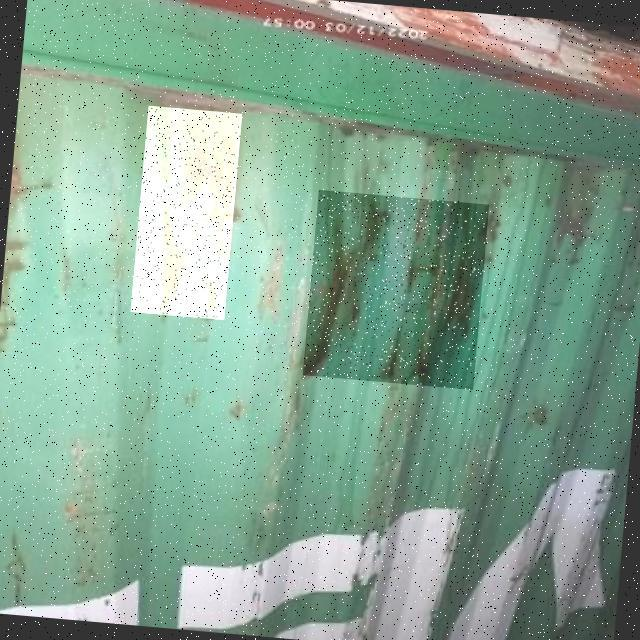Rust: (302, 189, 489, 389), (130, 106, 242, 320)
